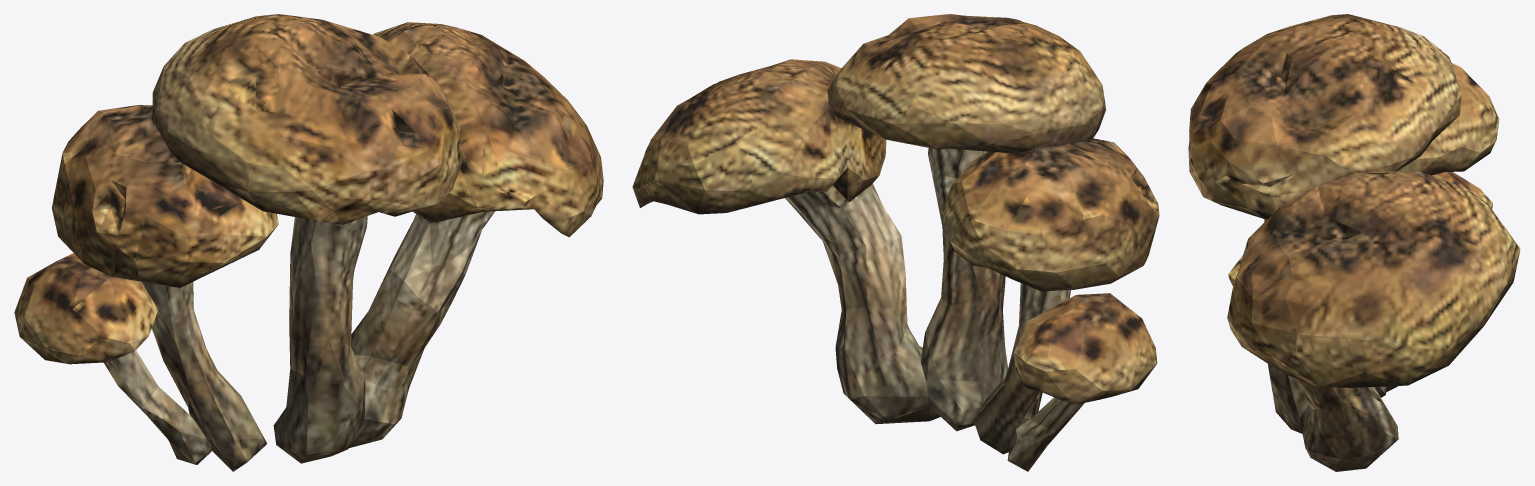
File: P_Chashugu_04.obj
3 views of the same model, side by side, from view 1: azimuth 30°, elevation 25°; view 2: azimuth 150°, elevation 25°; view 3: azimuth 270°, elevation 25° (orthographic). The views are drawn at different scales.
Bounding box in the file's own units: 0.5162 × 0.4049 × 0.3029.
1 material, 1 textured.
